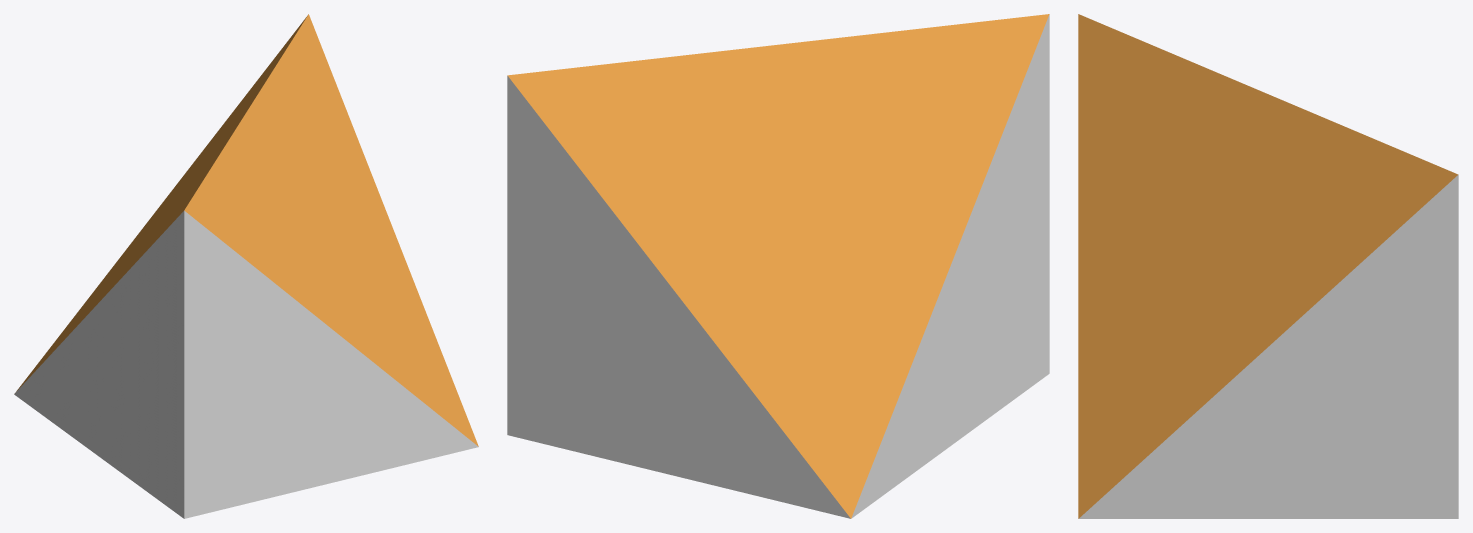
The picture shows the model from 3 angles, left to right: view 1: azimuth 30°, elevation 25°; view 2: azimuth 150°, elevation 25°; view 3: azimuth 270°, elevation 25°; orthographic projection. The views are drawn at different scales.
Visible parts, largest first — view 1: r1c2; view 2: r1c2; view 3: r1c2.
Boxes of the visible parts, x1,y1,x2,y2 form: r1c2: (14,14,478,518); r1c2: (507,14,1049,518); r1c2: (1078,14,1458,518).
Size of what is drawn, in the model's own units: 2 by 2 by 2.
Materials: 1 (1 with a texture image).
